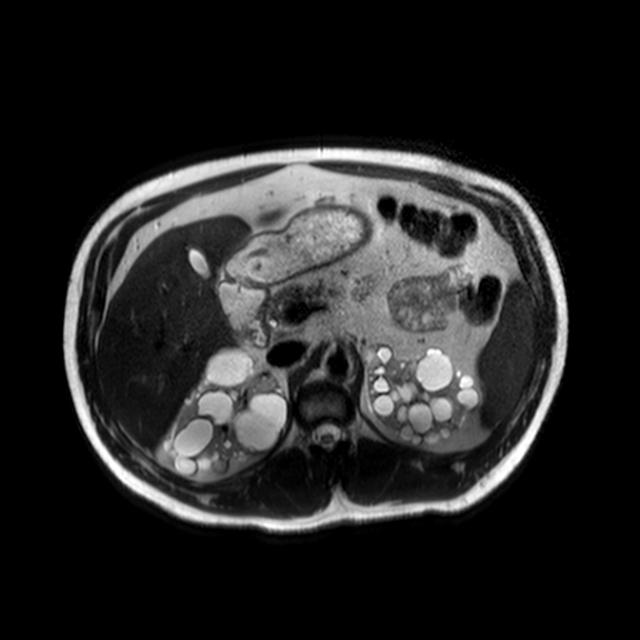sag: (162, 347, 286, 476)
sol: (366, 345, 481, 449)
